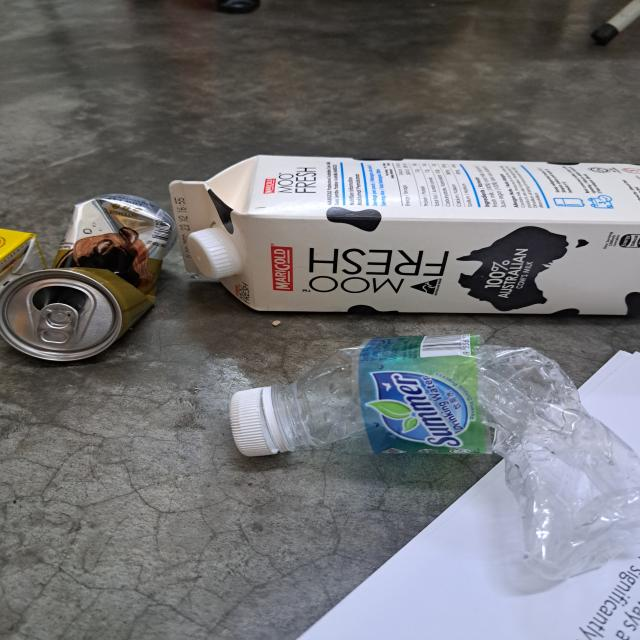can: (0, 190, 171, 360)
drink carton: (166, 150, 640, 319), (0, 223, 33, 285)
paper: (301, 348, 640, 640)
plastic bottle: (233, 342, 640, 580)
plastic bottle cap: (233, 383, 294, 457)
pop tab: (32, 301, 80, 349)
